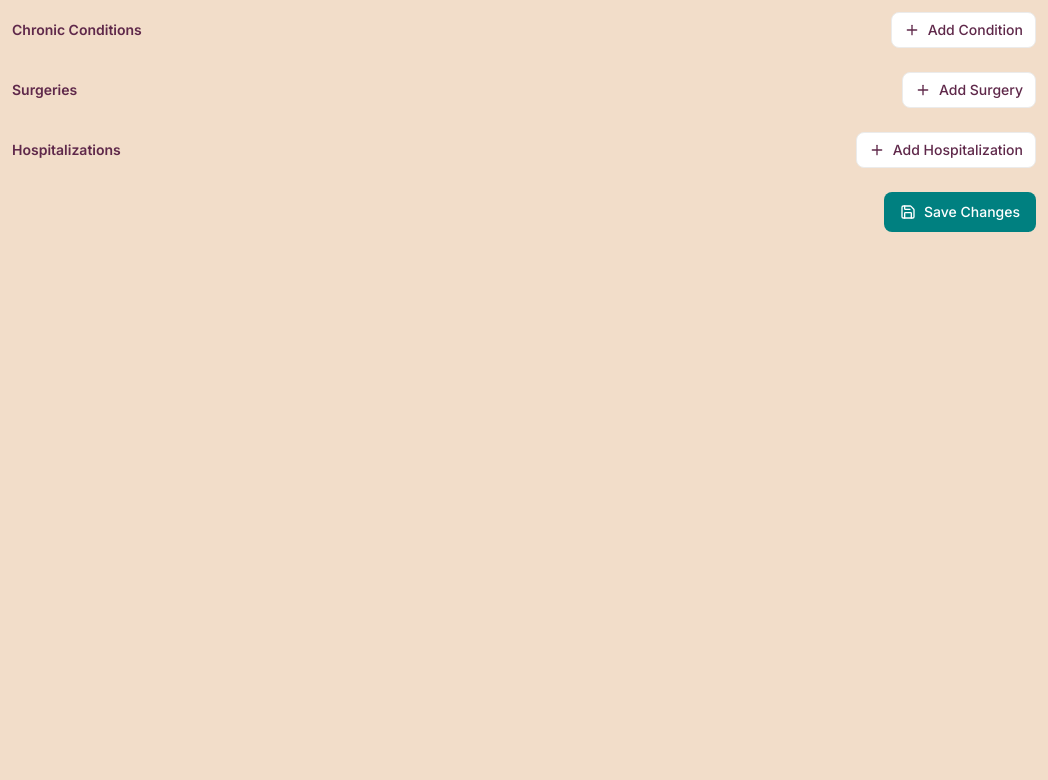
Test case: MedicalHistoryForm › Surgeries › should add a new surgery
Click the button "Add Surgery": {"x": 969, "y": 90} x1=902 y1=72 x2=1036 y2=108
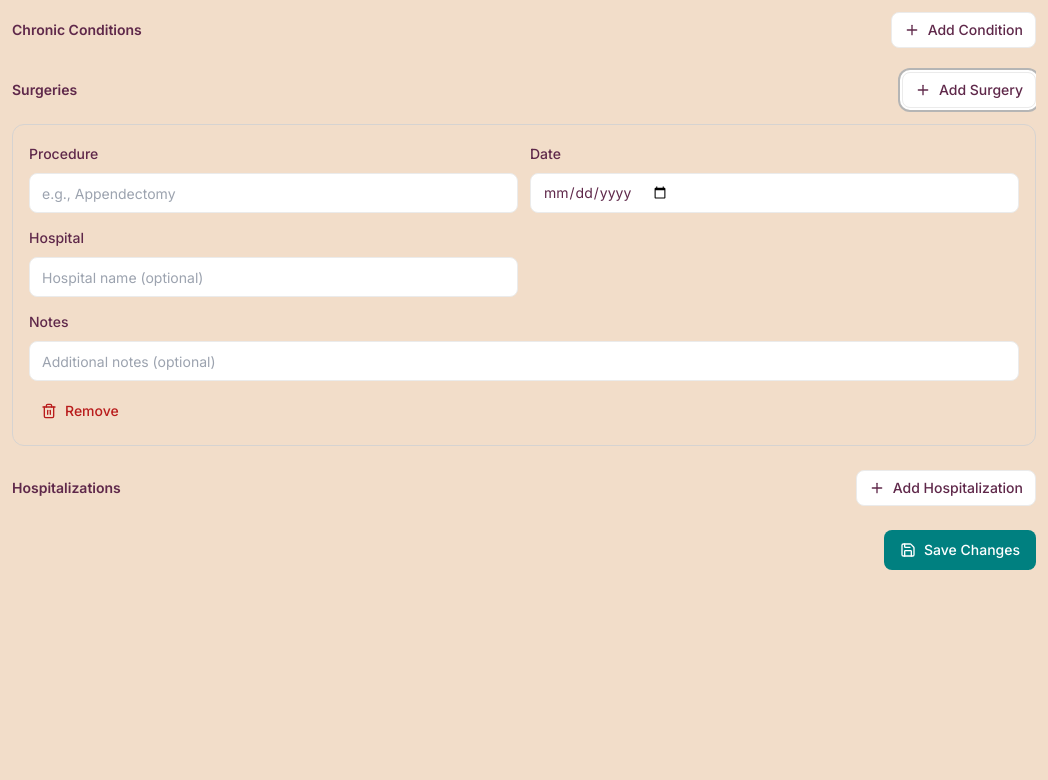
Expected: the field with placeholder "e.g., Appendectomy" is shown, x1=29 y1=173 x2=518 y2=213
Expected: the field with placeholder "Hospital name (optional)" is shown, x1=29 y1=257 x2=518 y2=297
